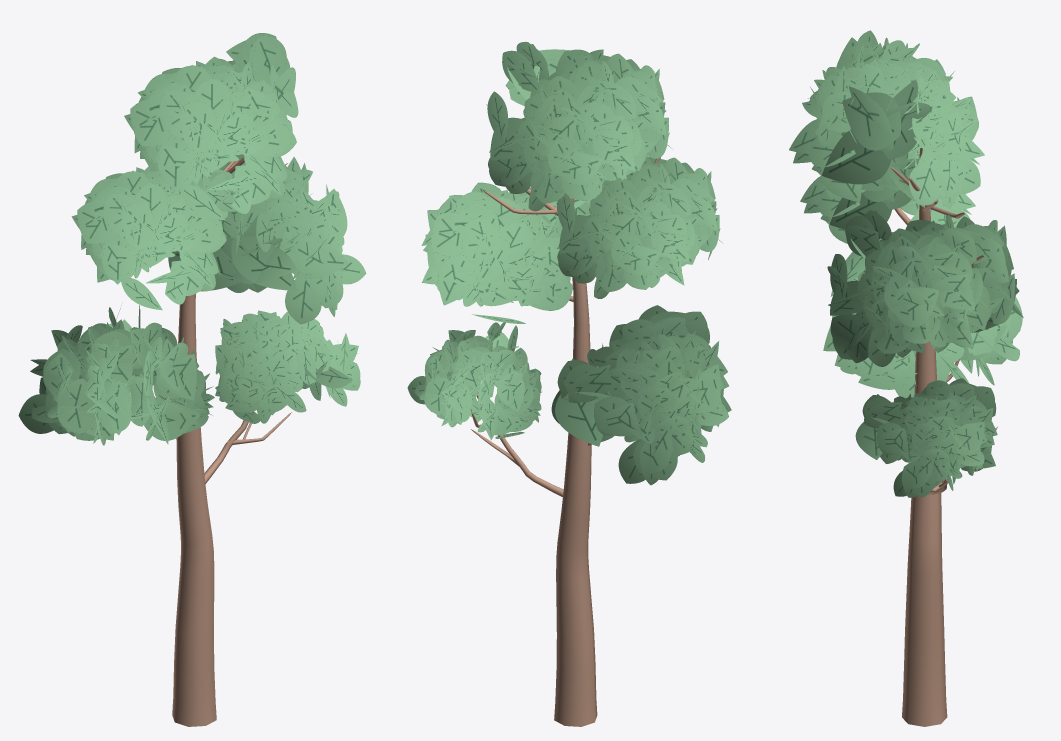
Rendered from birch.glb.
The picture shows the model from 3 angles, left to right: view 1: azimuth 30°, elevation 25°; view 2: azimuth 150°, elevation 25°; view 3: azimuth 270°, elevation 25°; orthographic projection. The views are drawn at different scales.
Parts seen in each view (by area): view 1: BirchTree_1; view 2: BirchTree_1; view 3: BirchTree_1.
Boxes of the visible parts, x1,y1,x2,y2 form: BirchTree_1: (18, 33, 366, 726); BirchTree_1: (407, 41, 731, 726); BirchTree_1: (789, 30, 1023, 726).
Bounding box in the file's own units: 2.71 × 5.45 × 1.94.
Materials: 2 (1 with a texture image).
